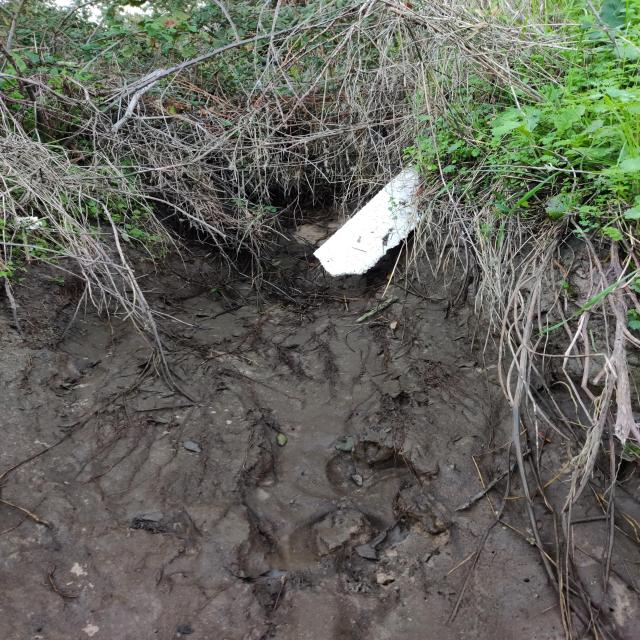litter: (313, 162, 422, 276)
